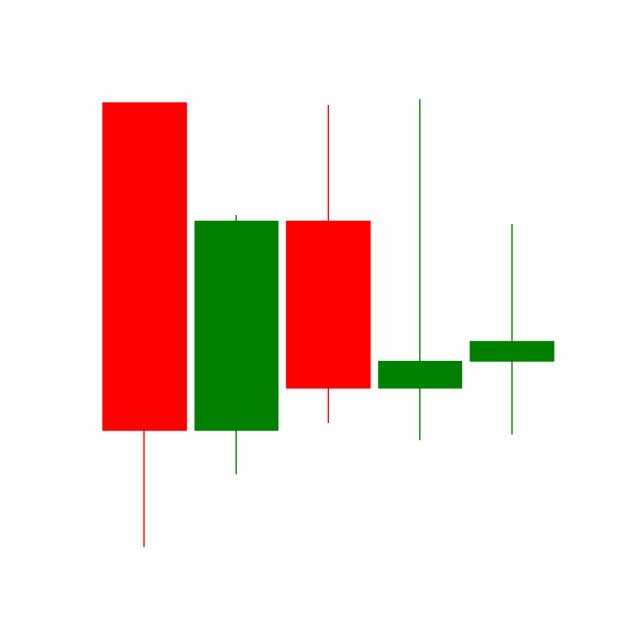Spinning Top: (464, 221, 558, 436)
